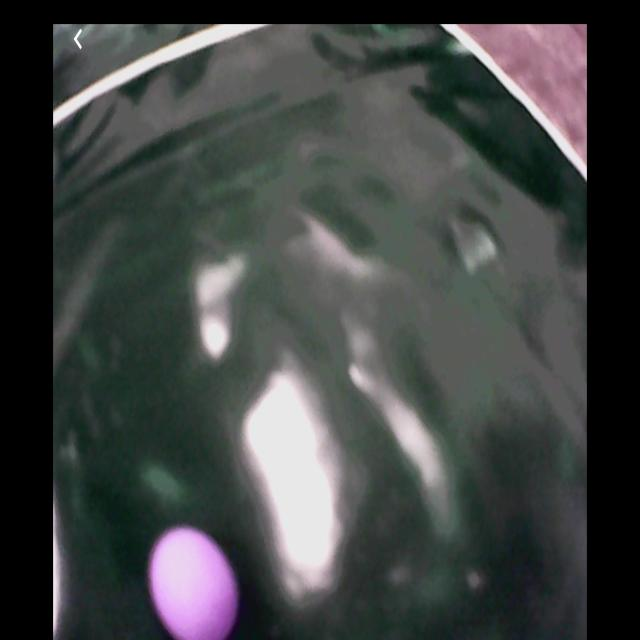ball: (148, 526, 239, 640)
